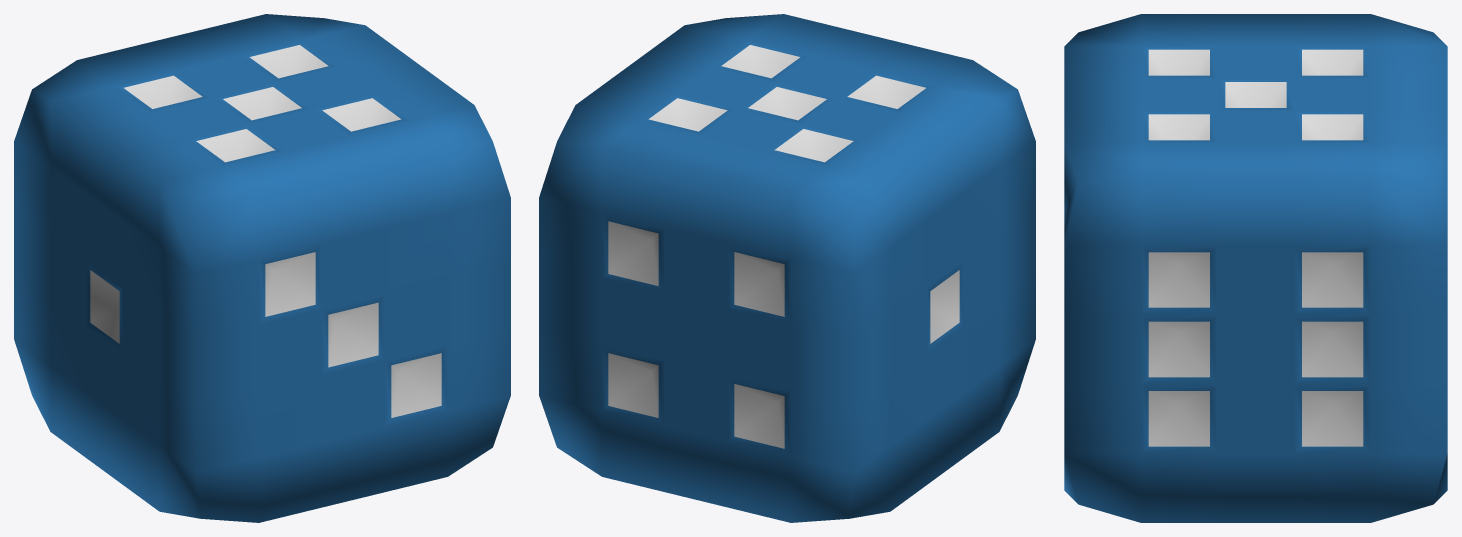
File: dice3.glb
3 views of the same model, side by side, from view 1: azimuth 30°, elevation 25°; view 2: azimuth 150°, elevation 25°; view 3: azimuth 270°, elevation 25° (orthographic). The views are drawn at different scales.
Visible parts, largest first — view 1: Cube.002; view 2: Cube.002; view 3: Cube.002.
Boxes of the visible parts, x1,y1,x2,y2 form: Cube.002: [14, 14, 510, 522]; Cube.002: [539, 14, 1035, 522]; Cube.002: [1064, 14, 1447, 522].
Size of the model in its own units: 2 by 2 by 2.
